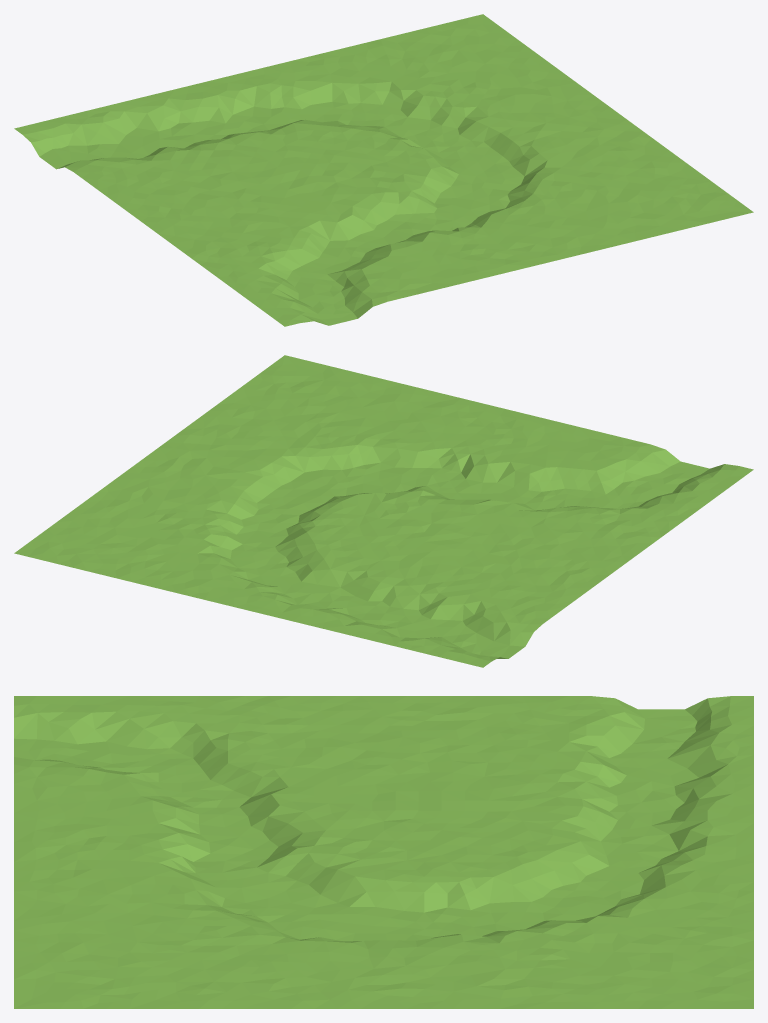
The model's file is MT_River_L_e_02.fbx.
3 renders of one model, top to bottom at view 1: azimuth 30°, elevation 25°; view 2: azimuth 150°, elevation 25°; view 3: azimuth 270°, elevation 25°, orthographic. The views are drawn at different scales.
Parts seen in each view (by area): view 1: MT_River_L_e_02; view 2: MT_River_L_e_02; view 3: MT_River_L_e_02.
Boxes of the visible parts, x1,y1,x2,y2 form: MT_River_L_e_02: [14, 14, 753, 326]; MT_River_L_e_02: [14, 355, 753, 667]; MT_River_L_e_02: [14, 696, 753, 1008].
Bounding box in the file's own units: 10000 × 226 × 10000.
